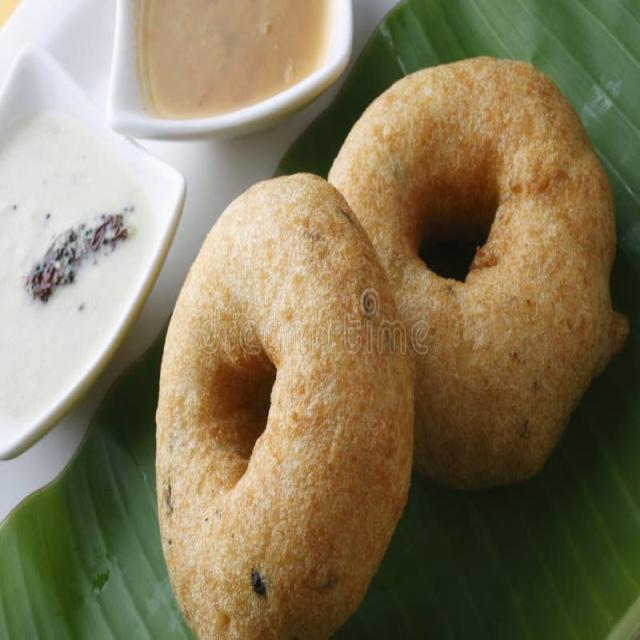MEDU VADA: (329, 58, 628, 487), (156, 174, 414, 639)
